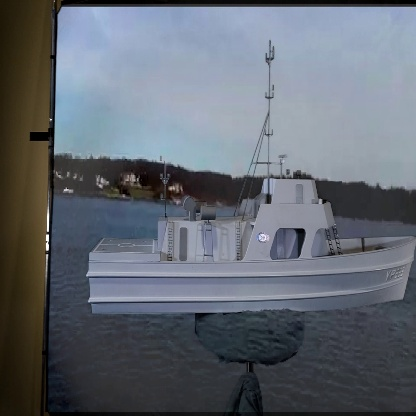YP689: (87, 39, 416, 316)
